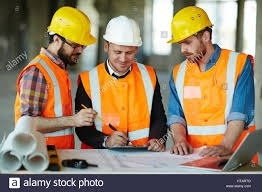helmet: (44, 5, 98, 48), (165, 5, 215, 45), (100, 14, 143, 47)
person with full safety: (168, 6, 251, 155), (76, 15, 168, 149), (15, 5, 98, 149)
safety vest: (175, 52, 242, 151), (84, 66, 158, 143), (20, 56, 74, 146)
